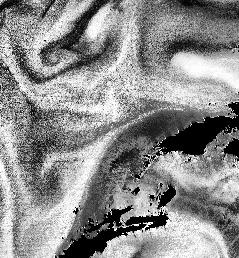CE: (25, 39, 77, 78)
